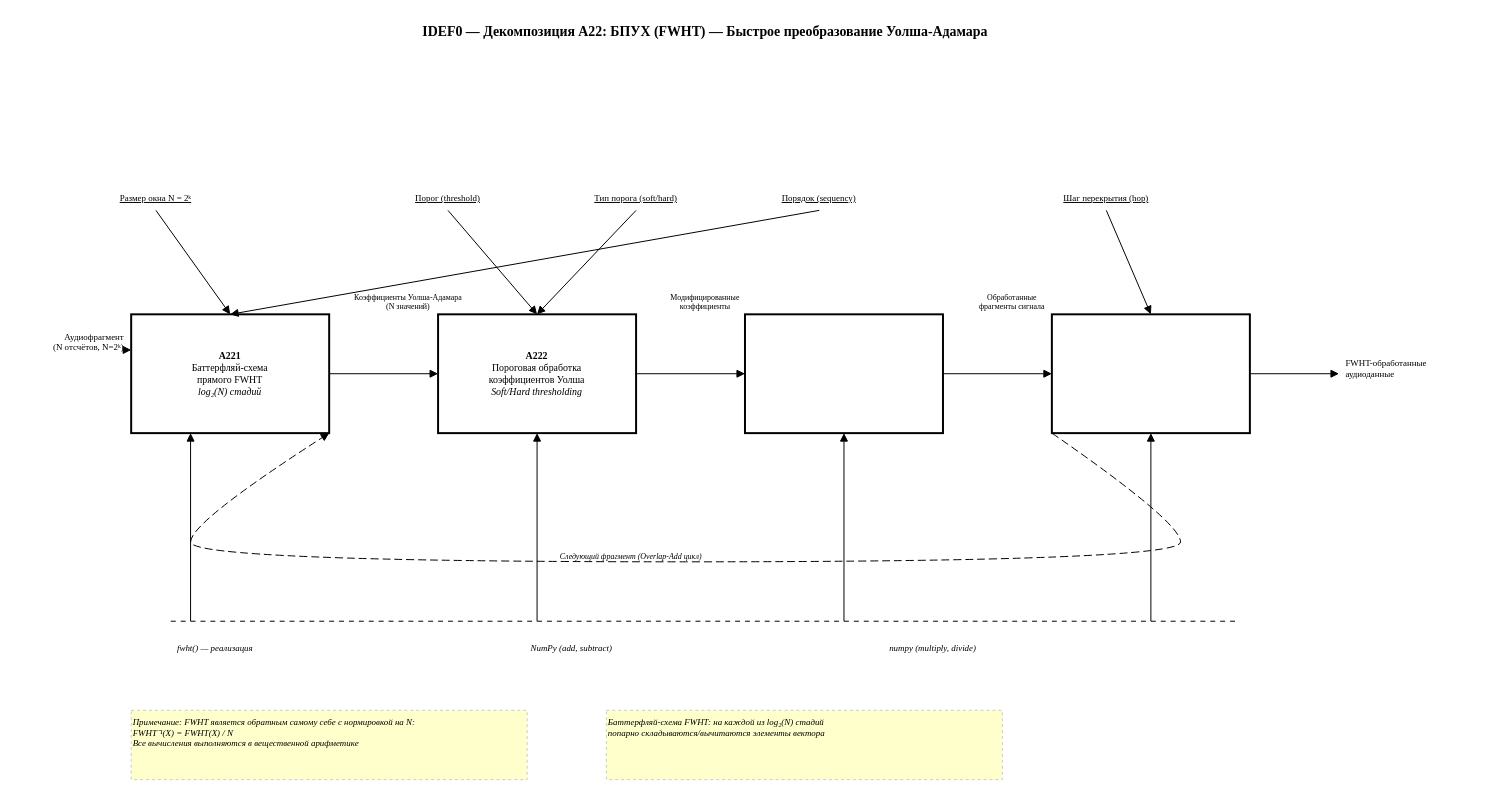
The diagram is 1499 pixels wide and 797 high, and some of its shapes have lost their labels. The centre of each missing label's shape, as x and y in pixels:
A223 Обратное FWHT (FWHT⁻¹ = FWHT / N) Инверсия баттерфляй-схемы: pixel 843 373
A224 Overlap-Add и нормализация: pixel 1150 373
